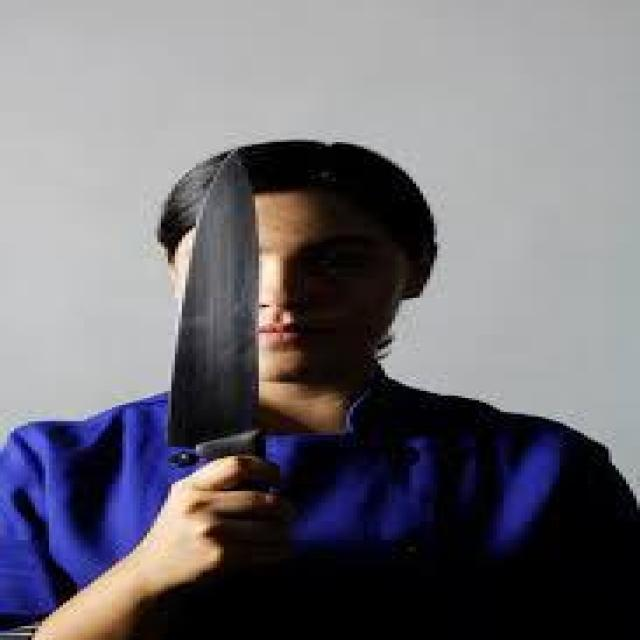faca: (133, 128, 339, 603)
